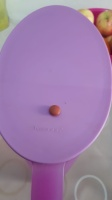Dolorex: (48, 104, 62, 117)
